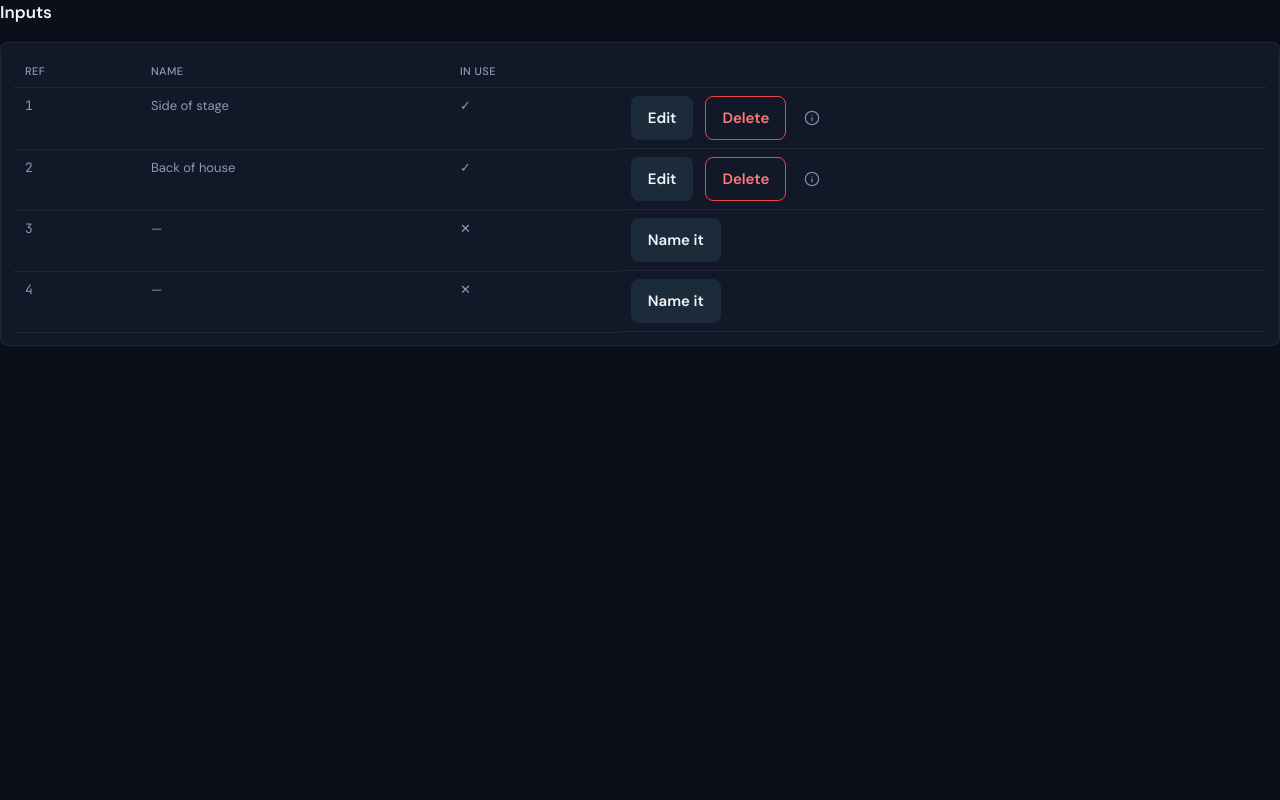
Scenario: InputsSection › shows every physical ref, named or not, and offers only unclaimed refs to name
The image size is (1280, 800).
Expected: the text "Side of stage" is shown, [139,88,448,149]
Expected: the text "✓" in the row of "Side of stage" is shown, [460,97,471,114]
What coordinates should you click on to do the following:
click the 1st button "Name it"
I would click on:
 (676, 240)
Its box is [631,218,721,262].
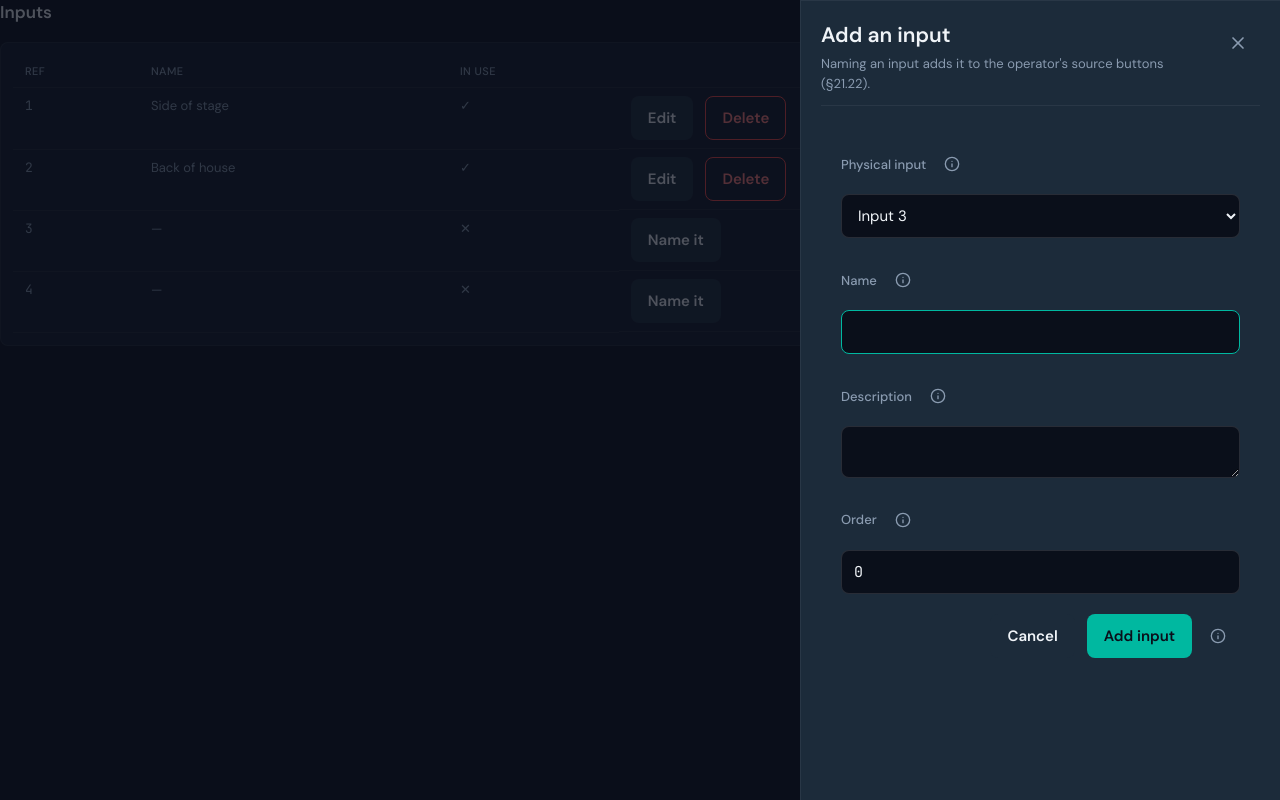
Now the dropdown labelled "Physical input" shows "Input 3", box [841,194,1240,238]
